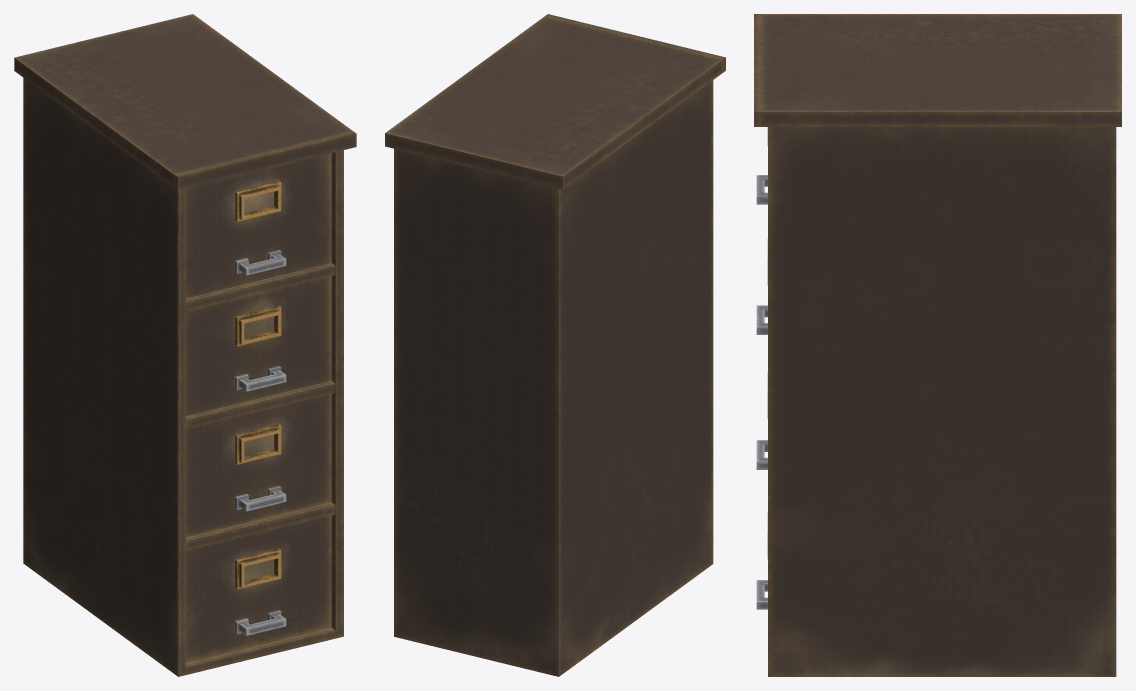
File: obj_t10_11_filecabinet_913f78.glb
3 views of the same model, side by side, from view 1: azimuth 30°, elevation 25°; view 2: azimuth 150°, elevation 25°; view 3: azimuth 270°, elevation 25° (orthographic). The views are drawn at different scales.
Parts seen in each view (by area): view 1: obj_t10_11_filecabinet_913f78; view 2: obj_t10_11_filecabinet_913f78; view 3: obj_t10_11_filecabinet_913f78.
Boxes of the visible parts, <box> form: obj_t10_11_filecabinet_913f78: <box>14,14,356,676</box>; obj_t10_11_filecabinet_913f78: <box>385,14,725,676</box>; obj_t10_11_filecabinet_913f78: <box>754,14,1121,676</box>.
Bounding box in the file's own units: 0.3699 × 1 × 0.5861.
Materials: 1 (1 with a texture image).
